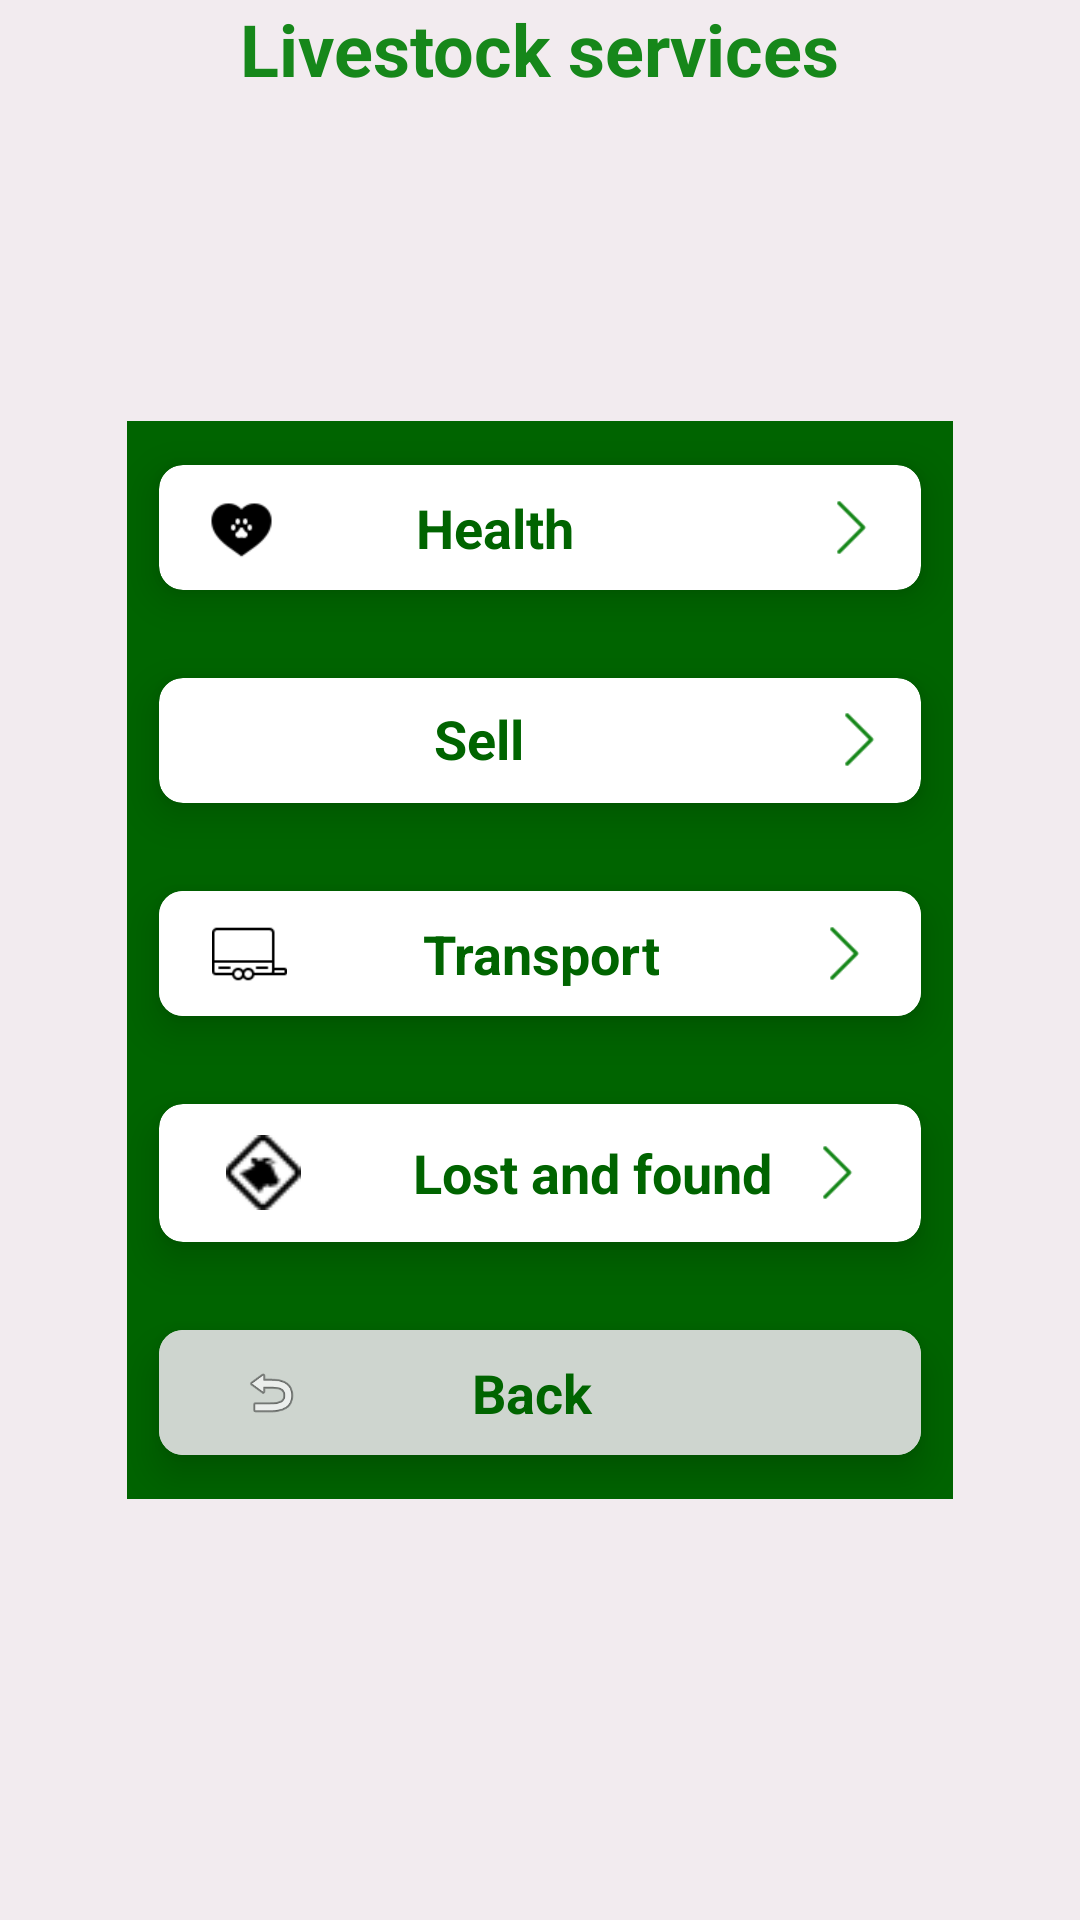

Icon bounding boxes for this 1080×1920 phone screenshot, format (x1=x1, y1=y1, x2=x2, y2=y2):
icnforward: (x1=837, y1=501, x2=866, y2=554), (x1=845, y1=713, x2=874, y2=766), (x1=830, y1=927, x2=859, y2=980), (x1=823, y1=1146, x2=852, y2=1199)
revert: (x1=250, y1=1373, x2=293, y2=1413)
